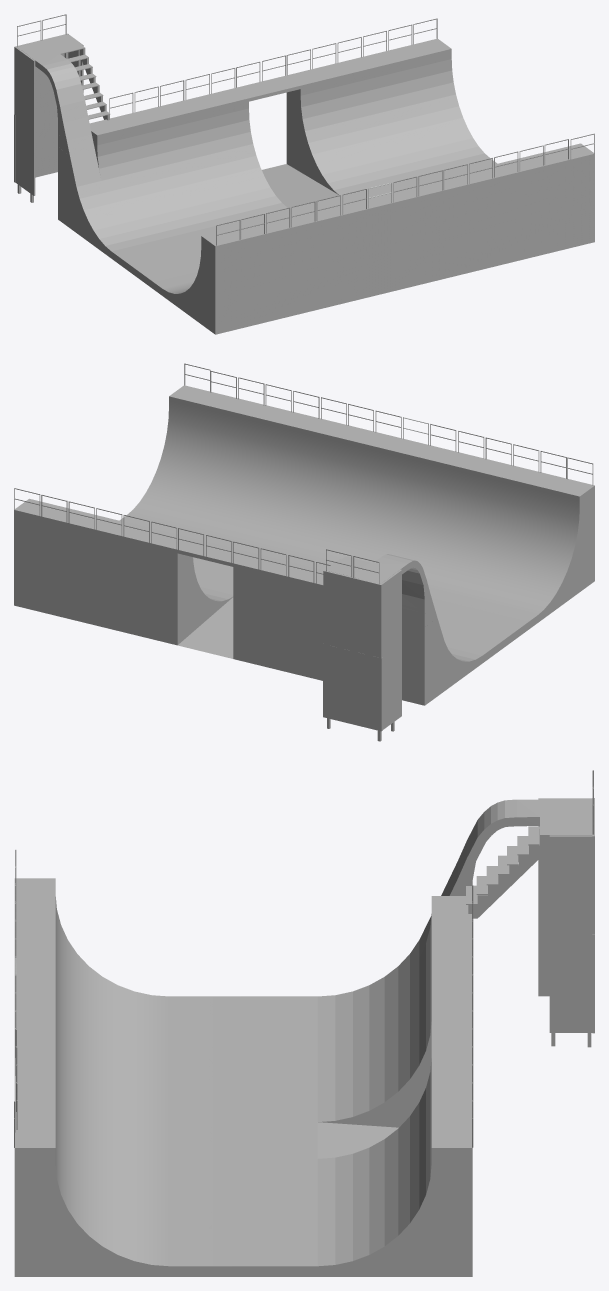
The model's file is UV Skateboard ramp.fbx.
3 views of the same model, one above another, from view 1: azimuth 30°, elevation 25°; view 2: azimuth 150°, elevation 25°; view 3: azimuth 270°, elevation 25° (orthographic). The views are drawn at different scales.
Visible parts, largest first — view 1: polySurface1, pCylinder2, pCube19, pCube16, pCube20, polySurface2, pCube18; view 2: pCylinder2, polySurface1, pCube18, pCube19, pCube16, pCube20, polySurface2; view 3: polySurface1, pCylinder2, pCube14, pCube15, polySurface2, pCube2, pCube20.
Part boxes in pixels (<box>): polySurface1: <box>35,38,497,276</box>; pCylinder2: <box>136,143,594,334</box>; pCube19: <box>14,105,57,182</box>; pCube16: <box>15,47,35,128</box>; pCube20: <box>15,115,35,195</box>; polySurface2: <box>17,34,84,59</box>; pCube18: <box>14,33,68,114</box>; pCylinder2: <box>119,385,594,642</box>; polySurface1: <box>14,498,509,705</box>; pCube18: <box>323,570,382,657</box>; pCube19: <box>323,644,382,731</box>; pCube16: <box>381,569,401,656</box>; pCube20: <box>382,643,401,729</box>; polySurface2: <box>326,556,399,583</box>; polySurface1: <box>243,799,539,1276</box>; pCylinder2: <box>14,878,243,1276</box>; pCube14: <box>549,835,592,934</box>; pCube15: <box>549,934,592,1032</box>; polySurface2: <box>540,799,592,835</box>; pCube2: <box>468,835,549,918</box>; pCube20: <box>538,897,549,996</box>.
Size of the model in its own units: 59.03 by 24.56 by 53.43.
